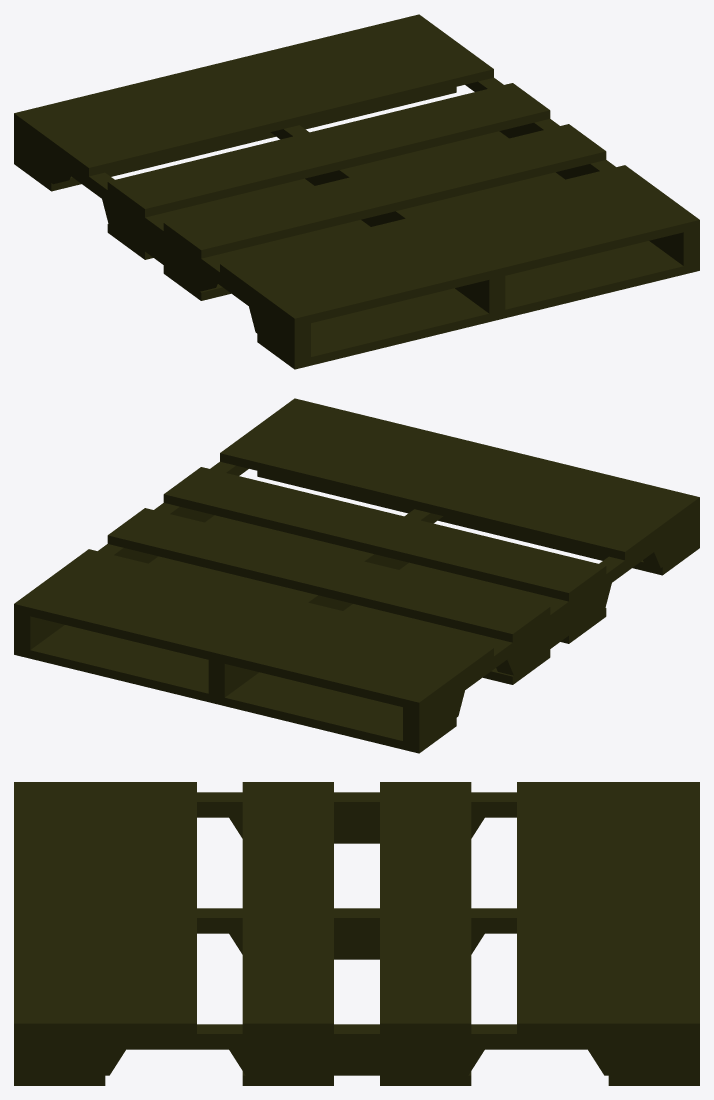
The model's file is Pallet_low.FBX.
3 renders of one model, top to bottom at view 1: azimuth 30°, elevation 25°; view 2: azimuth 150°, elevation 25°; view 3: azimuth 270°, elevation 25°, orthographic. The views are drawn at different scales.
Parts seen in each view (by area): view 1: Pallet_low; view 2: Pallet_low; view 3: Pallet_low.
Boxes of the visible parts, x1,y1,x2,y2 form: Pallet_low: (14,14,699,369); Pallet_low: (14,398,699,753); Pallet_low: (14,782,699,1085).
Bounding box in the file's own units: 100 × 12 × 120.
